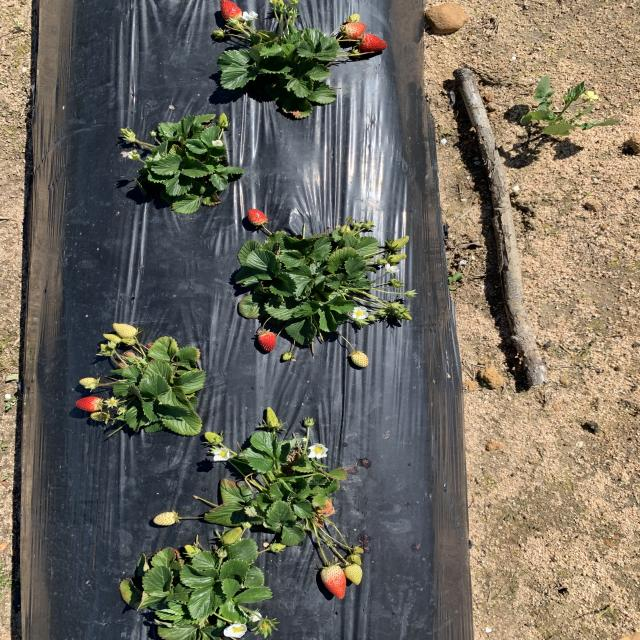unripe: (321, 566, 347, 599), (360, 33, 388, 54), (256, 330, 278, 353), (219, 0, 244, 20), (342, 22, 367, 40), (75, 397, 104, 412), (247, 207, 267, 226)
